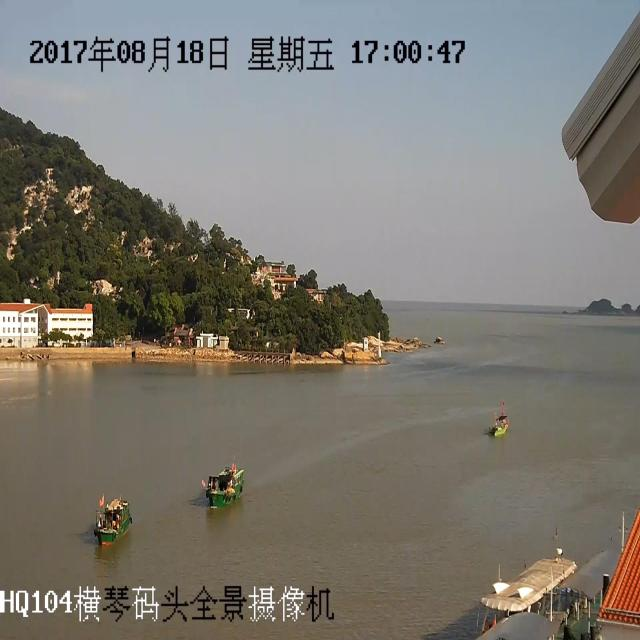fishing boat: (200, 454, 248, 523), (92, 473, 128, 554), (482, 396, 516, 454)
